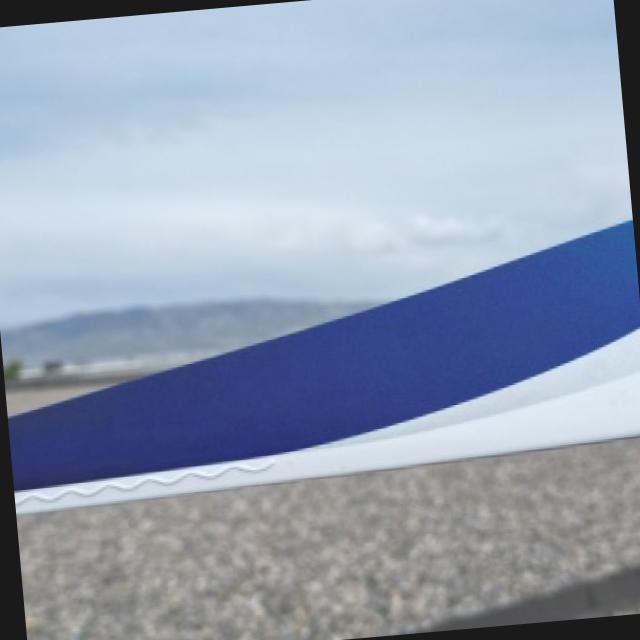healthy: (14, 220, 640, 511)
